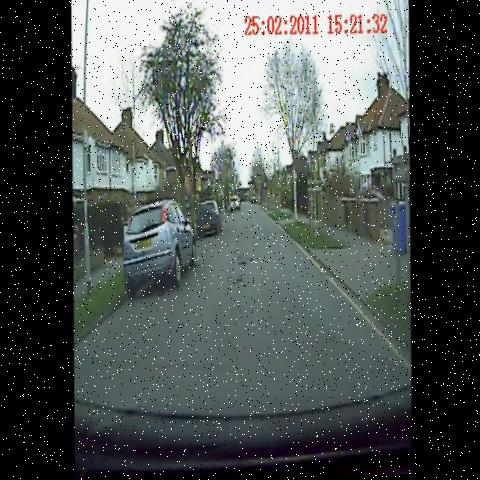pothole: (224, 267, 249, 297), (229, 246, 259, 269), (247, 219, 259, 234)
